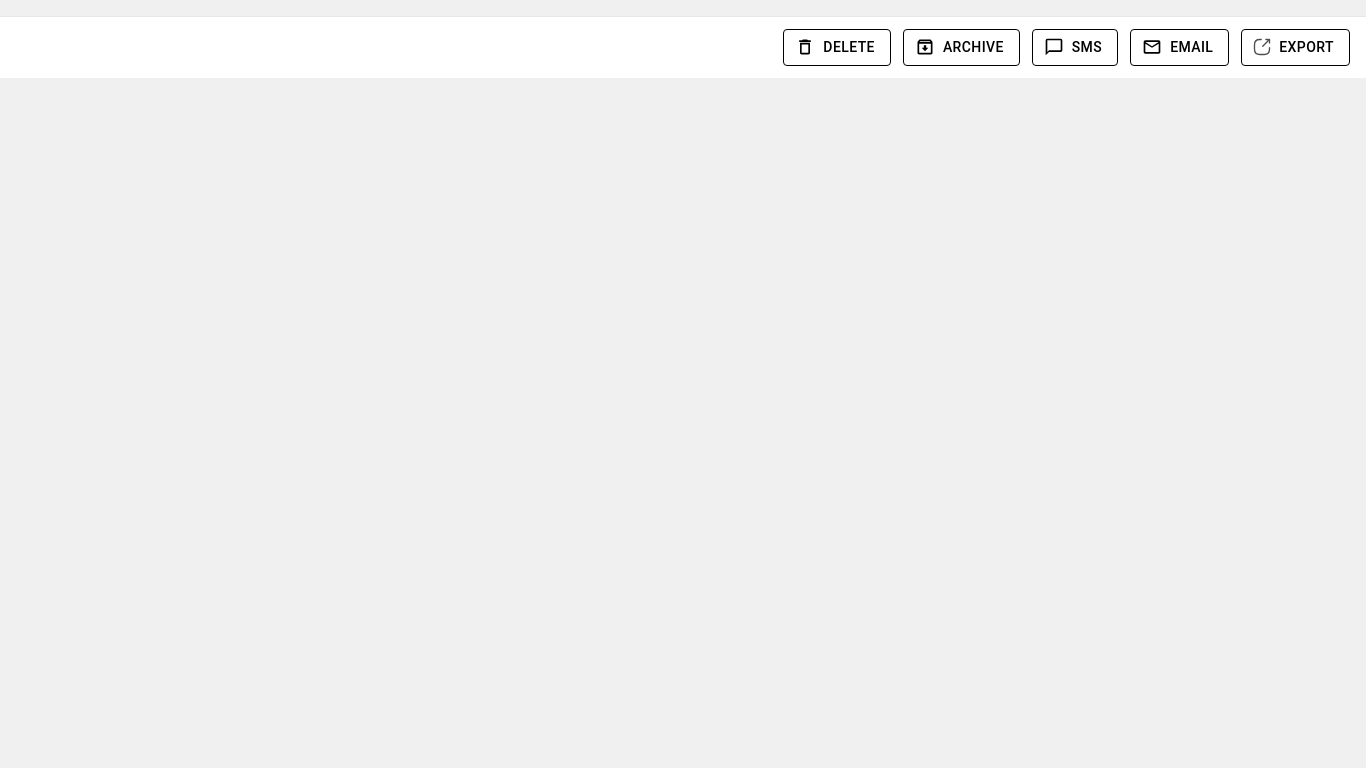
Test: BulkActionBar › opens delete dialog
What coordinates should you click on to do the following:
click the button "Delete"
I would click on:
 (837, 47)
Its box is [783,29,891,66].
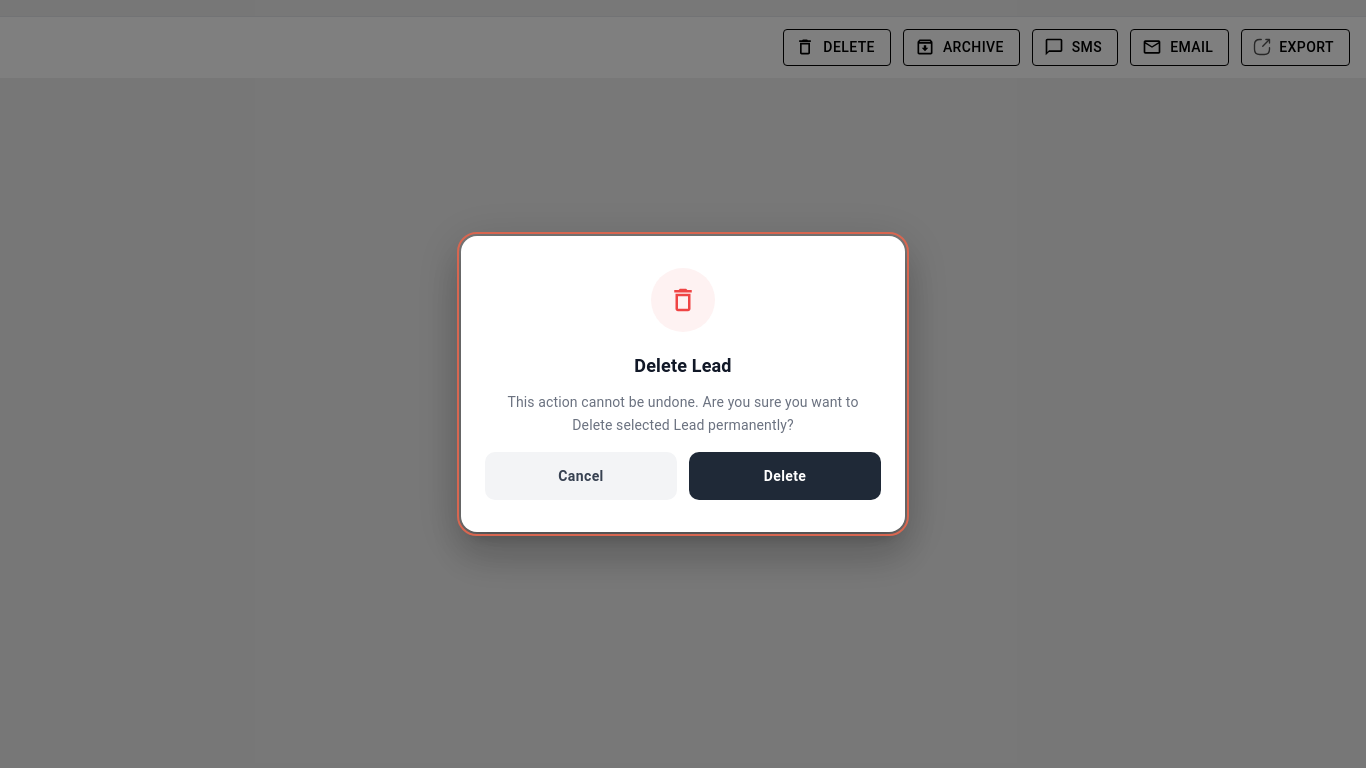
Result: the dialog is shown at [461,236,905,532]
